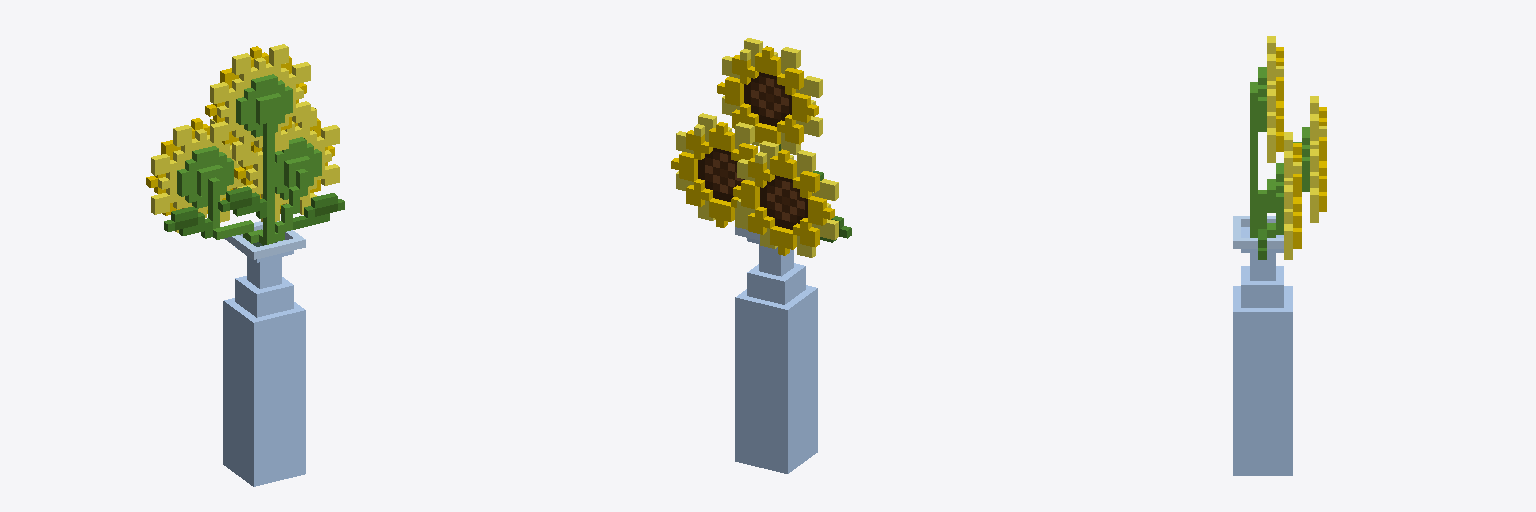
3 renders of one model, left to right at view 1: azimuth 30°, elevation 25°; view 2: azimuth 150°, elevation 25°; view 3: azimuth 270°, elevation 25°, orthographic.
Visible parts, largest first — view 1: Sunflower; view 2: Sunflower; view 3: Sunflower.
Part boxes in pixels (bbox=[...]): Sunflower: bbox=[146, 44, 344, 486]; Sunflower: bbox=[671, 38, 851, 473]; Sunflower: bbox=[1233, 36, 1326, 475].
Bounding box in the file's own units: 23 × 53 × 11.
Materials: 1 (1 with a texture image).